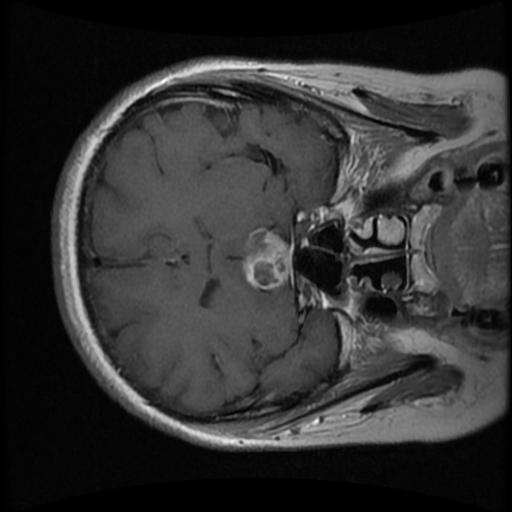pituitary tumour: (243, 227, 289, 290)
